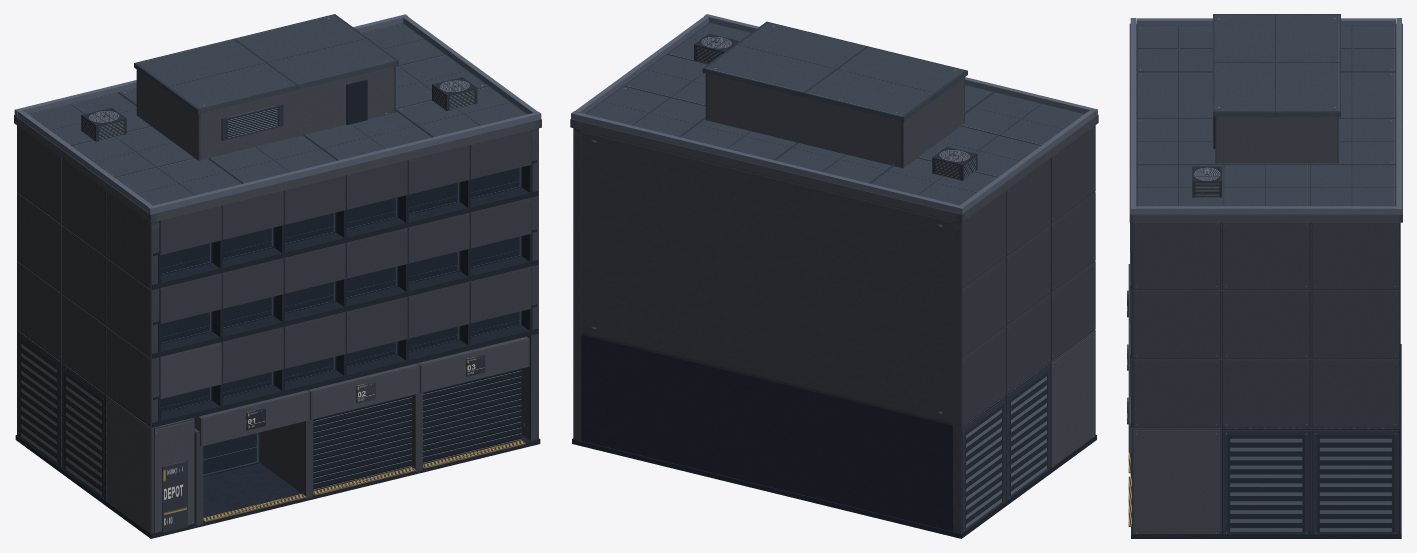
Rendered from depot_left.glb.
3 renders of one model, left to right at view 1: azimuth 30°, elevation 25°; view 2: azimuth 150°, elevation 25°; view 3: azimuth 270°, elevation 25°, orthographic.
Visible parts, largest first — view 1: Architecture, Shutter_2, Shutter_3, Bay_1_Interior, Window_03_04, Window_02_04, Window_02_05, Window_03_05, Window_02_03, Window_02_06, Window_02_02, Window_03_03 (+10 smaller); view 2: Architecture; view 3: Architecture.
Boxes of the visible parts, x1,y1,x2,y2 form: Architecture: [14, 14, 541, 538]; Shutter_2: [313, 395, 411, 490]; Shutter_3: [423, 368, 521, 463]; Bay_1_Interior: [203, 432, 260, 476]; Window_03_04: [346, 197, 398, 229]; Window_02_04: [346, 266, 398, 298]; Window_02_05: [408, 251, 460, 283]; Window_03_05: [408, 182, 460, 214]; Window_02_03: [285, 281, 336, 313]; Window_02_06: [470, 236, 521, 268]; Window_02_02: [223, 296, 274, 328]; Window_03_03: [285, 212, 336, 244]; Architecture: [570, 14, 1098, 538]; Architecture: [1127, 14, 1402, 538].
Bounding box in the file's own units: 15.16 × 13.98 × 9.25.
Materials: 1 (1 with a texture image).
